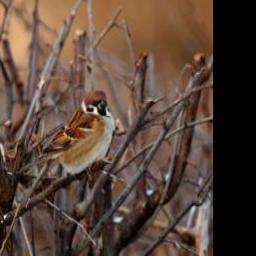Sparrow: (14, 88, 120, 182)
